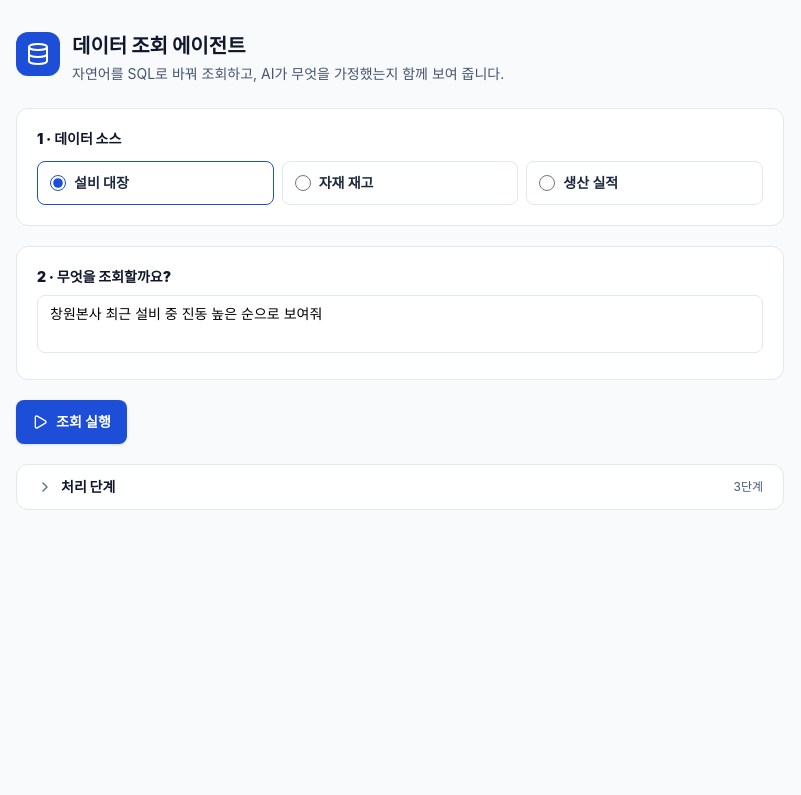
Test: DataQueryPage › AI가 가정한 조건을 드러낸다
Click the button "조회 실행": point(71, 422) [16, 400, 127, 444]
(page scrolled)
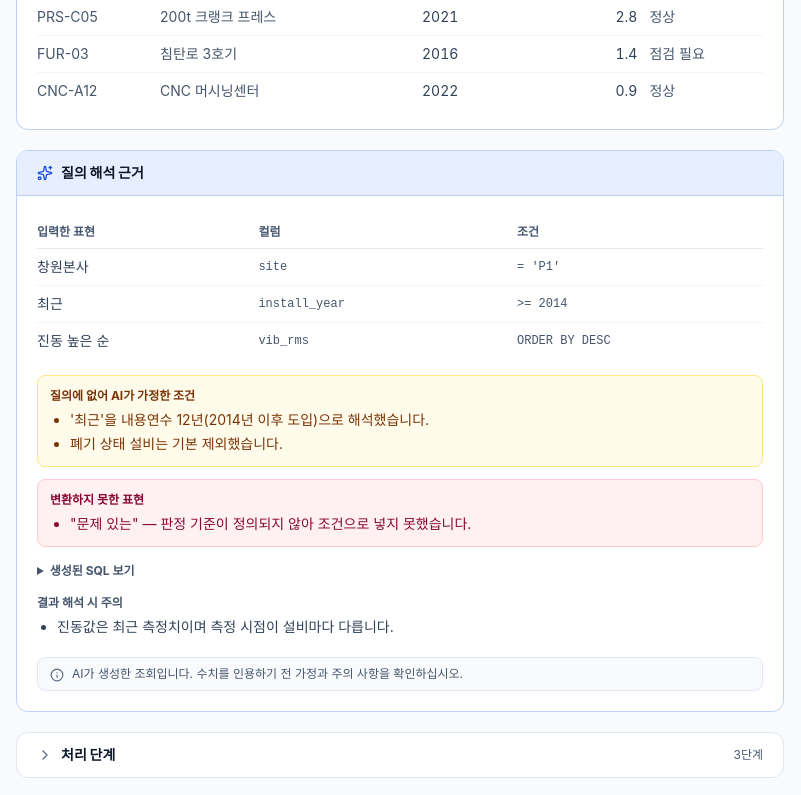
Result: the element "질의 해석 근거" shows "질의에 없어 AI가 가정한 조건" at [50, 388, 195, 402]
Result: the element "질의 해석 근거" shows "내용연수 12년" at [70, 410, 429, 428]
